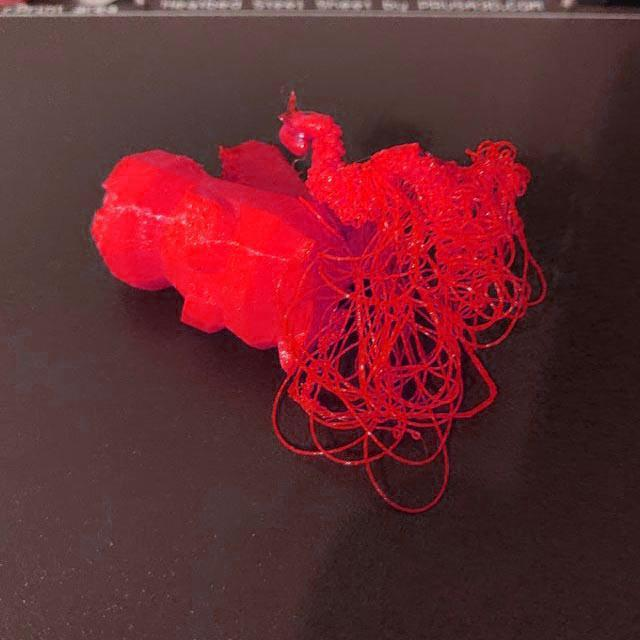Spaghetti: (271, 89, 548, 514)
